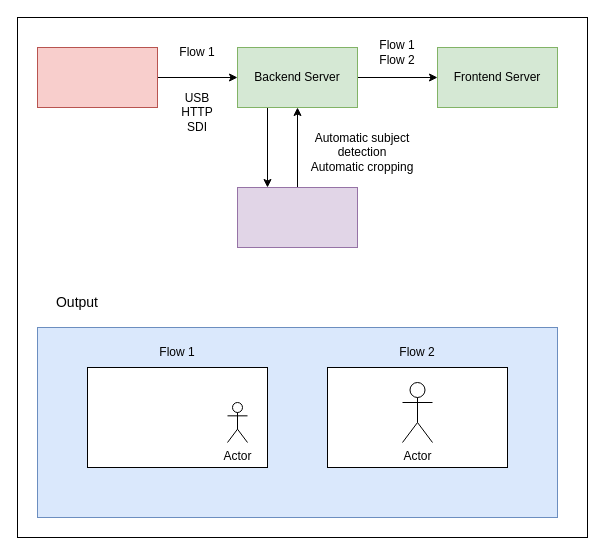
This 605x555 diagram has some shape labels left out. The centre of each missing label's shape, as x and y in pixels:
"Camera" belongs at [97,77].
"Python Server" belongs at [297,217].
